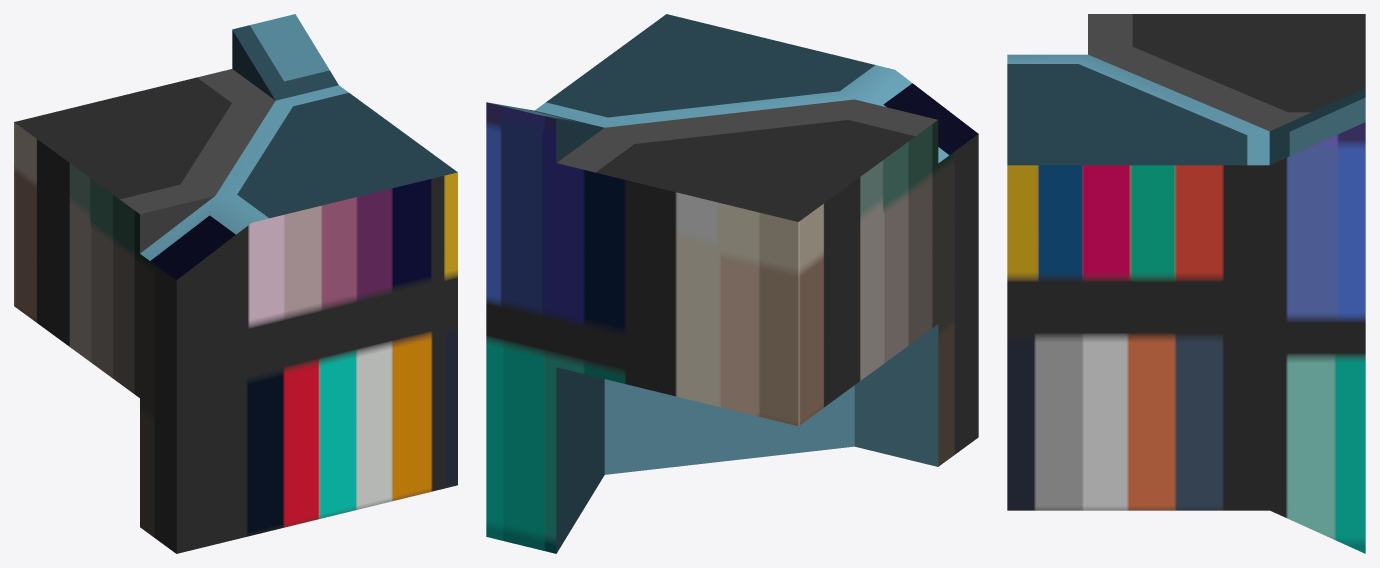
File: tile_6_1_1.gltf
3 renders of one model, left to right at view 1: azimuth 30°, elevation 25°; view 2: azimuth 150°, elevation 25°; view 3: azimuth 270°, elevation 25°, orthographic. The views are drawn at different scales.
Visible parts, largest first — view 1: arena.floor.corners.049, arena.floor.main.030, arena.sides.high.036; view 2: arena.floor.main.030, arena.floor.corners.049, arena.sides.high.036; view 3: arena.floor.corners.049, arena.sides.high.036, arena.floor.main.030.
Boxes of the visible parts, x1,y1,x2,y2 form: arena.floor.corners.049: (140, 85, 457, 553); arena.floor.main.030: (14, 69, 275, 397); arena.sides.high.036: (232, 14, 338, 100); arena.floor.main.030: (556, 99, 938, 426); arena.floor.corners.049: (535, 14, 978, 474); arena.sides.high.036: (486, 102, 604, 553); arena.floor.corners.049: (1007, 54, 1269, 510); arena.sides.high.036: (1269, 88, 1365, 553); arena.floor.main.030: (1088, 14, 1365, 131).
Bounding box in the file's own units: 8 × 10.64 × 8.
1 material, 1 textured.
